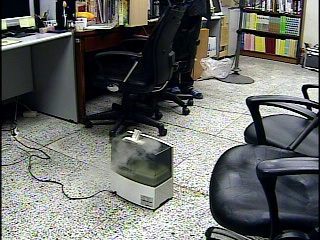smoke: (107, 132, 159, 172)
